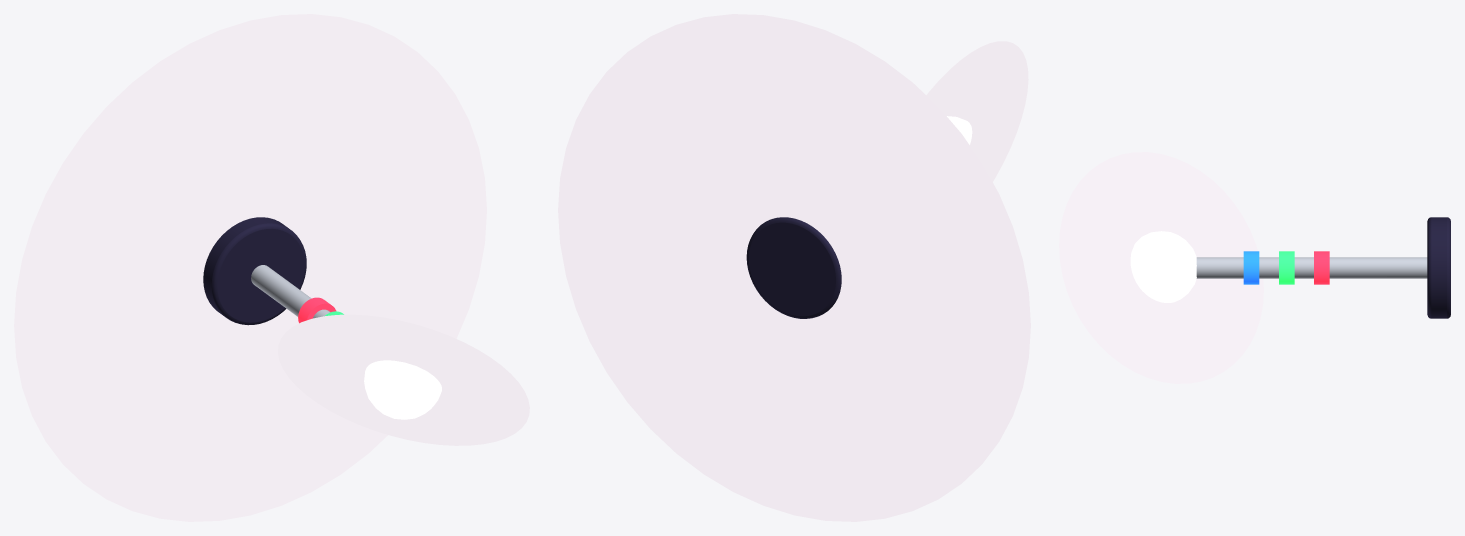
The model's file is borne.glb.
3 renders of one model, left to right at view 1: azimuth 30°, elevation 25°; view 2: azimuth 150°, elevation 25°; view 3: azimuth 270°, elevation 25°, orthographic. The views are drawn at different scales.
Parts seen in each view (by area): view 1: lueur, aureole, pied, globe, fut; view 2: lueur, aureole, pied; view 3: aureole, fut, globe, pied, bague2, bague0, bague1.
Part boxes in pixels (left/top/right/bottom): lueur: left=14, top=14, right=486, bottom=521; aureole: left=278, top=314, right=529, bottom=445; pied: left=203, top=217, right=306, bottom=325; globe: left=364, top=360, right=441, bottom=419; fut: left=251, top=265, right=330, bottom=318; lueur: left=558, top=14, right=1030, bottom=521; aureole: left=926, top=41, right=1028, bottom=181; pied: left=746, top=217, right=841, bottom=318; aureole: left=1059, top=152, right=1263, bottom=383; fut: left=1196, top=257, right=1427, bottom=278; globe: left=1130, top=231, right=1196, bottom=302; pied: left=1427, top=217, right=1450, bottom=318; bague2: left=1243, top=251, right=1259, bottom=284; bague0: left=1314, top=251, right=1329, bottom=284; bague1: left=1279, top=251, right=1294, bottom=284.
Size of the model in its own units: 2.6 by 2.6 by 2.
